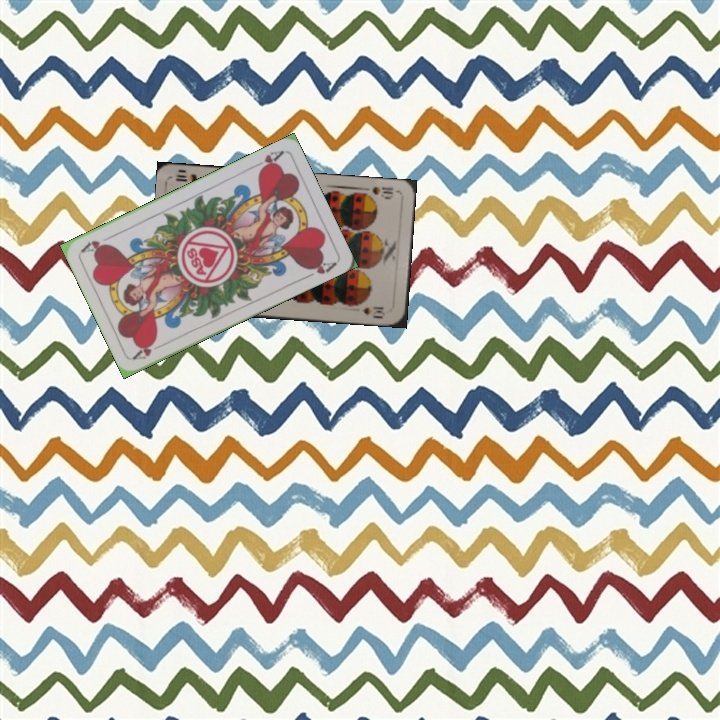HA: (248, 146, 286, 175), (129, 336, 168, 362)
S10: (359, 183, 396, 201)
